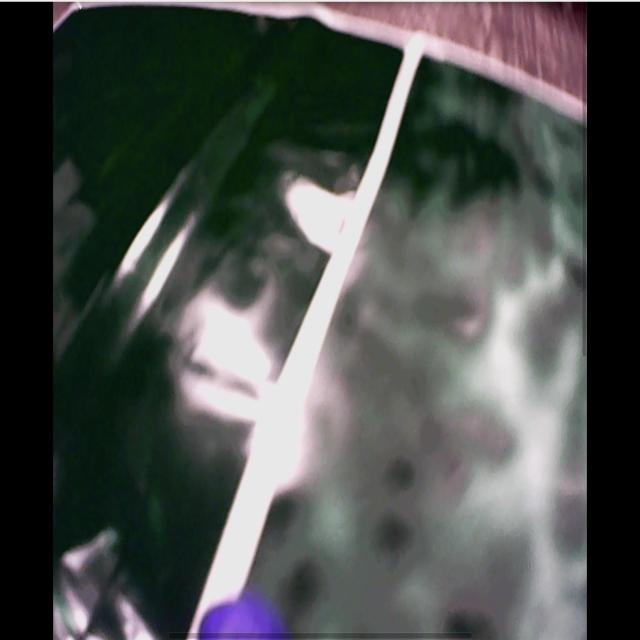ball: (200, 605, 285, 640)
